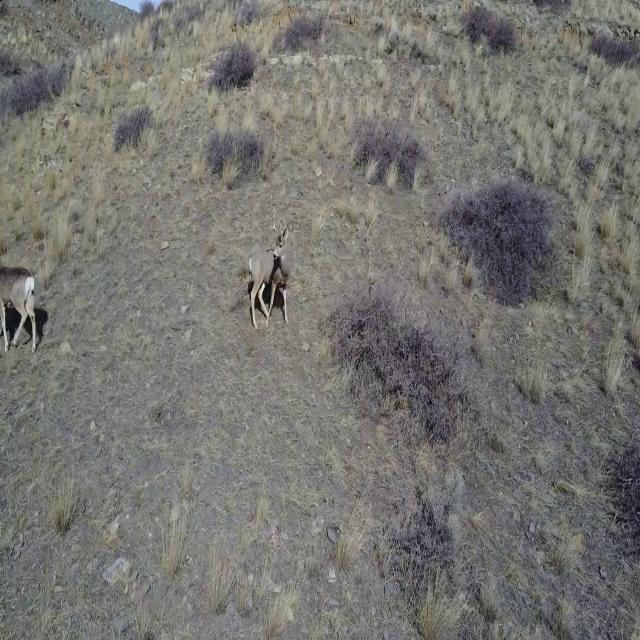Deer: (246, 212, 294, 334), (1, 260, 42, 362)
